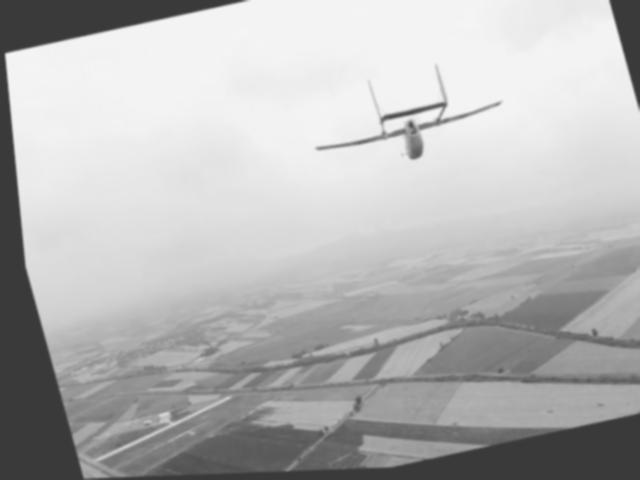hedef: (285, 43, 518, 195)
